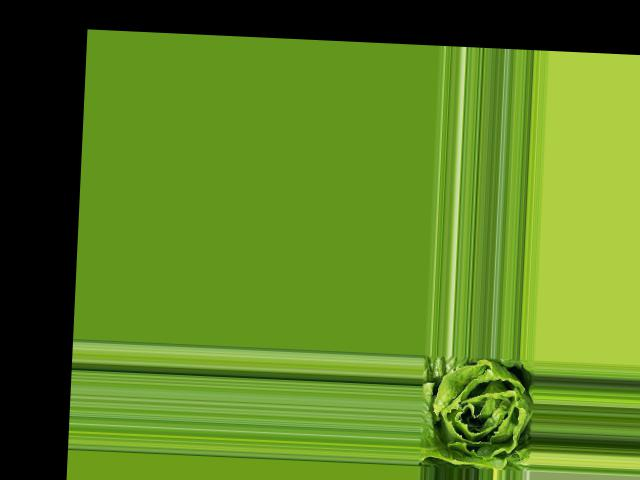lettuce: (418, 356, 533, 470)
